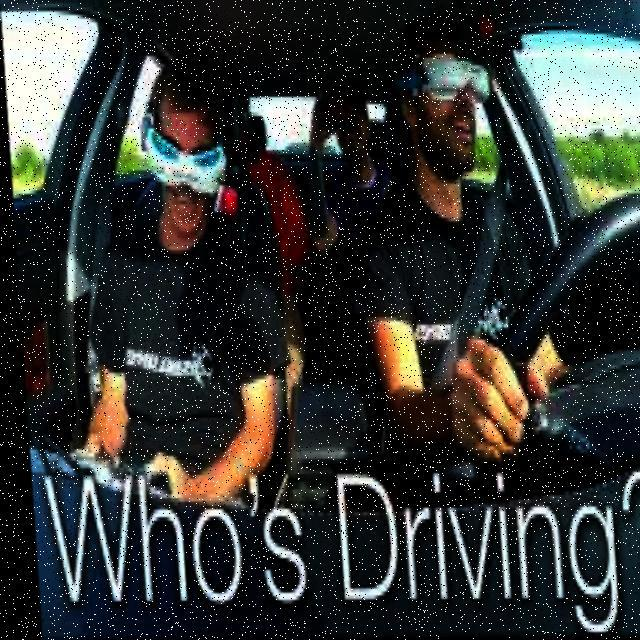noSeatbelt: (104, 192, 252, 501)
seatbelt: (378, 150, 518, 402)
